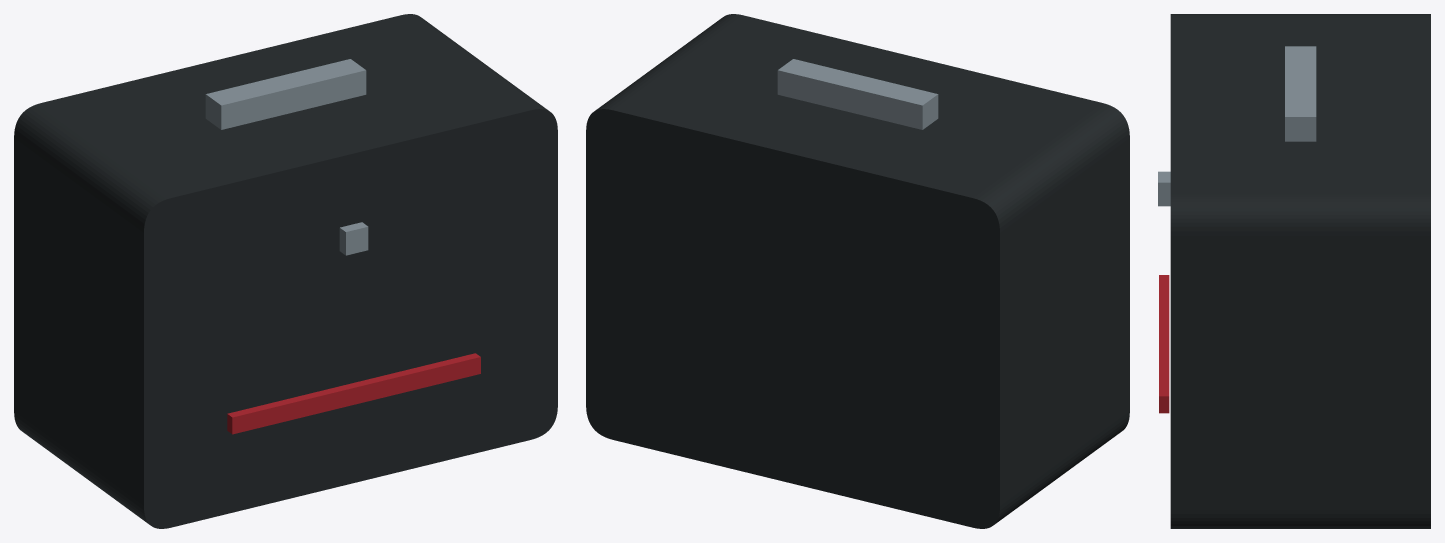
Rendered from saddlebag-large.glb.
3 views of the same model, side by side, from view 1: azimuth 30°, elevation 25°; view 2: azimuth 150°, elevation 25°; view 3: azimuth 270°, elevation 25° (orthographic).
Visible parts, largest first — view 1: preset-saddlebag-large; view 2: preset-saddlebag-large; view 3: preset-saddlebag-large.
Boxes of the visible parts, box(x1,y1,x2,y2) form: preset-saddlebag-large: box(14, 14, 557, 528); preset-saddlebag-large: box(586, 14, 1129, 528); preset-saddlebag-large: box(1158, 14, 1430, 528).
Bounding box in the file's own units: 0.46 × 0.376 × 0.262.
